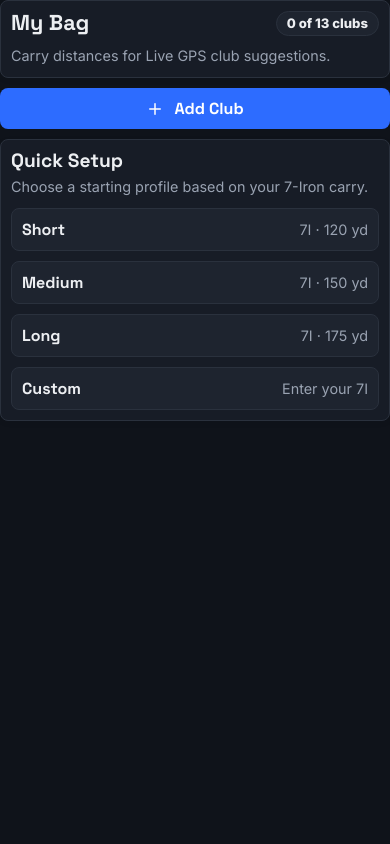
Scenario: /profile/my-bag page › previews and applies a preset while preserving manual Add Club
Expected: the button "Add Club" is shown, x1=0 y1=88 x2=389 y2=129
Click the button "Medium 7I · 150 yd": {"x": 53, "y": 282} x1=11 y1=261 x2=379 y2=304
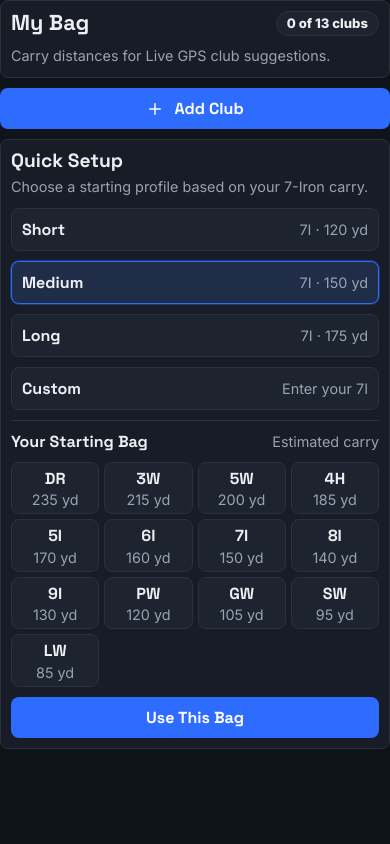
Expected: the text "Your Starting Bag" is shown, x1=11 y1=431 x2=148 y2=452
Expected: the text "7I" is shown, x1=235 y1=526 x2=248 y2=546
Click the button "Use This Bag": {"x": 195, "y": 718} x1=11 y1=697 x2=379 y2=738
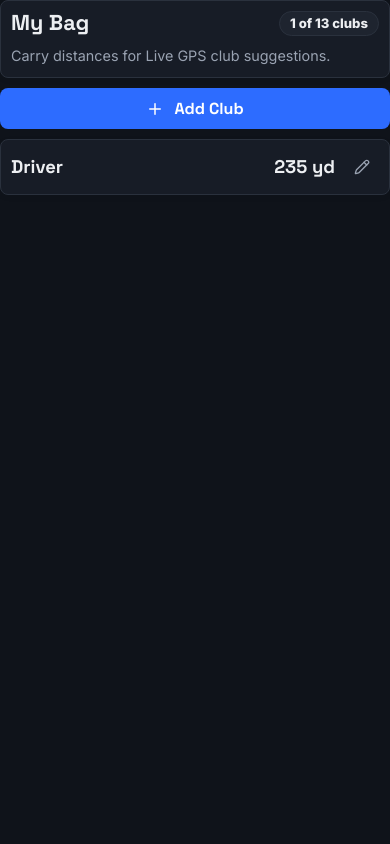
Expected: the text "235 yd" is shown, x1=274 y1=156 x2=335 y2=178
Expected: the heading "Quick Setup" is gone
